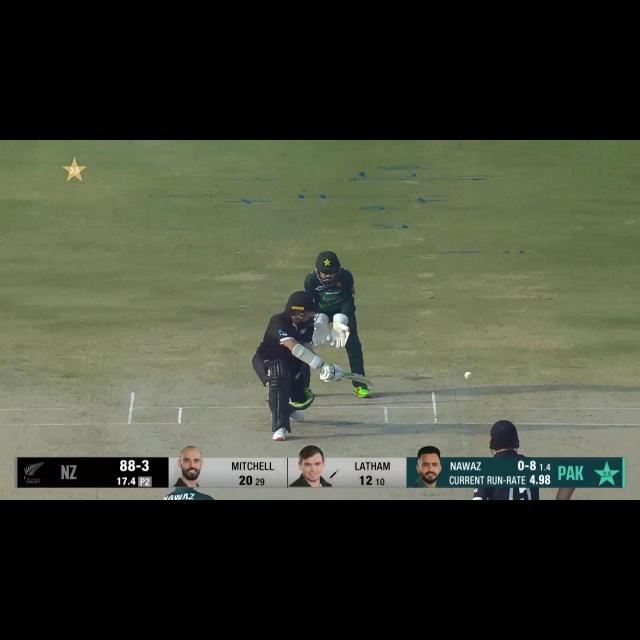bat: (341, 367, 376, 389)
toe: (366, 377, 376, 389)
